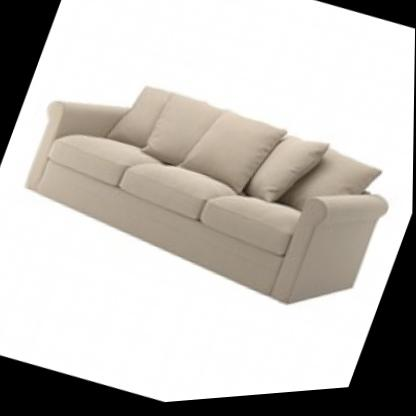Sofa: (0, 8, 416, 365)
